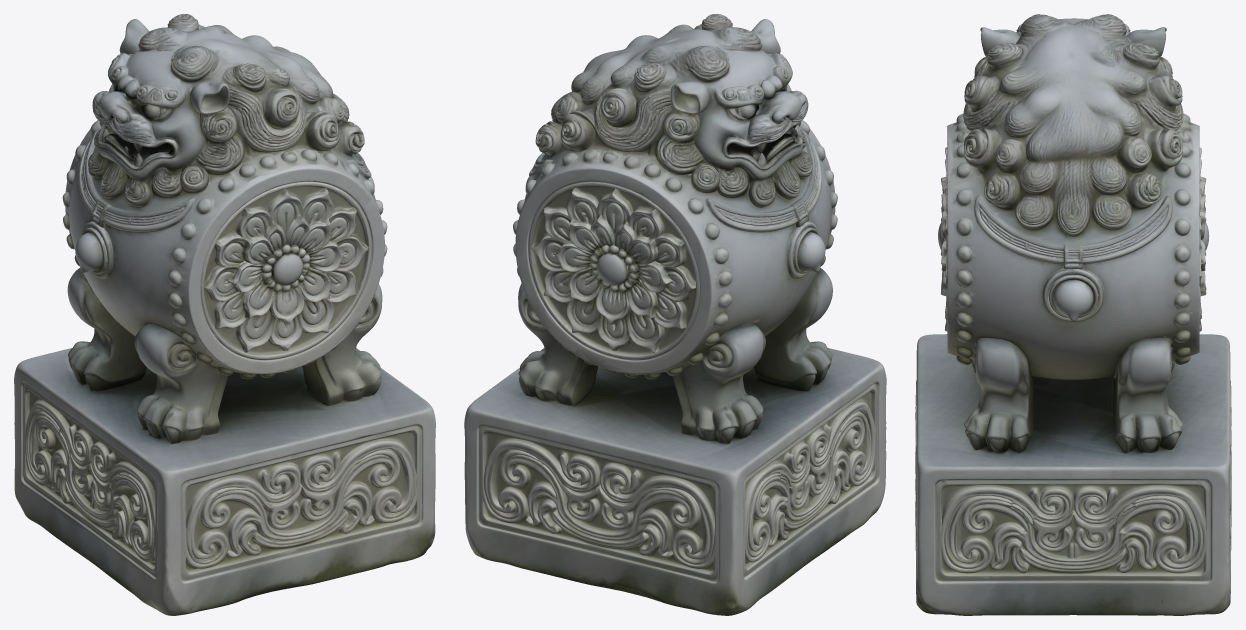
3 views of the same model, side by side, from view 1: azimuth 30°, elevation 25°; view 2: azimuth 150°, elevation 25°; view 3: azimuth 270°, elevation 25° (orthographic).
Visible parts, largest first — view 1: node_0; view 2: node_0; view 3: node_0.
Boxes of the visible parts, x1,y1,x2,y2 form: node_0: (14, 14, 435, 615); node_0: (464, 14, 886, 615); node_0: (915, 14, 1231, 615).
Bounding box in the file's own units: 0.5898 × 0.9686 × 0.5417.
Materials: 1 (1 with a texture image).
